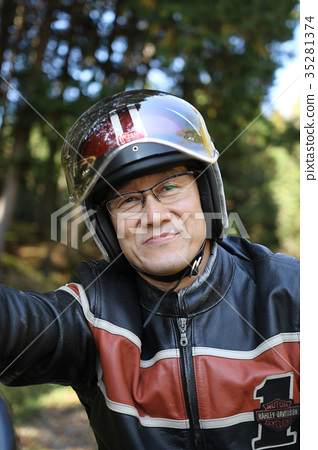helmet: (58, 103, 227, 253)
